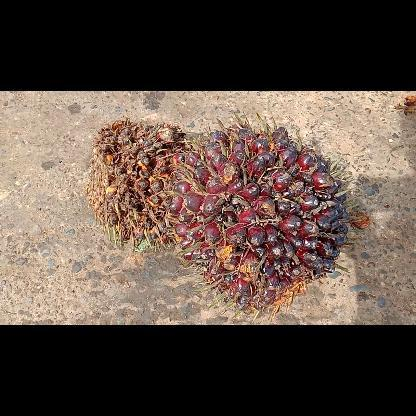Kurang masak: (162, 110, 358, 322)
TBS abnormal: (86, 118, 192, 252)
